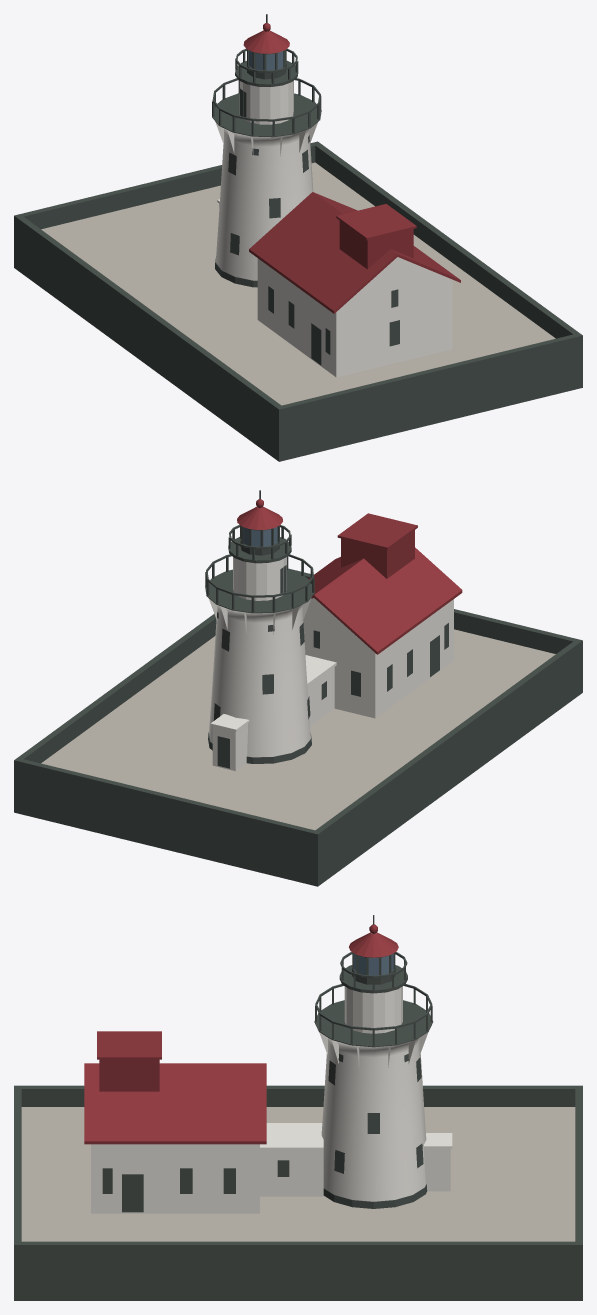
File: cle-harbor-west-pierhead-light.glb
3 views of the same model, one above another, from view 1: azimuth 30°, elevation 25°; view 2: azimuth 150°, elevation 25°; view 3: azimuth 270°, elevation 25° (orthographic). The views are drawn at different scales.
Visible parts, largest first — view 1: Cleveland Harbor West Pierhead Light; view 2: Cleveland Harbor West Pierhead Light; view 3: Cleveland Harbor West Pierhead Light.
Boxes of the visible parts, bbox=[...] form: Cleveland Harbor West Pierhead Light: bbox=[14, 14, 582, 461]; Cleveland Harbor West Pierhead Light: bbox=[14, 490, 582, 886]; Cleveland Harbor West Pierhead Light: bbox=[14, 915, 582, 1300].
Bounding box in the file's own units: 22.5 × 20.3 × 34.
